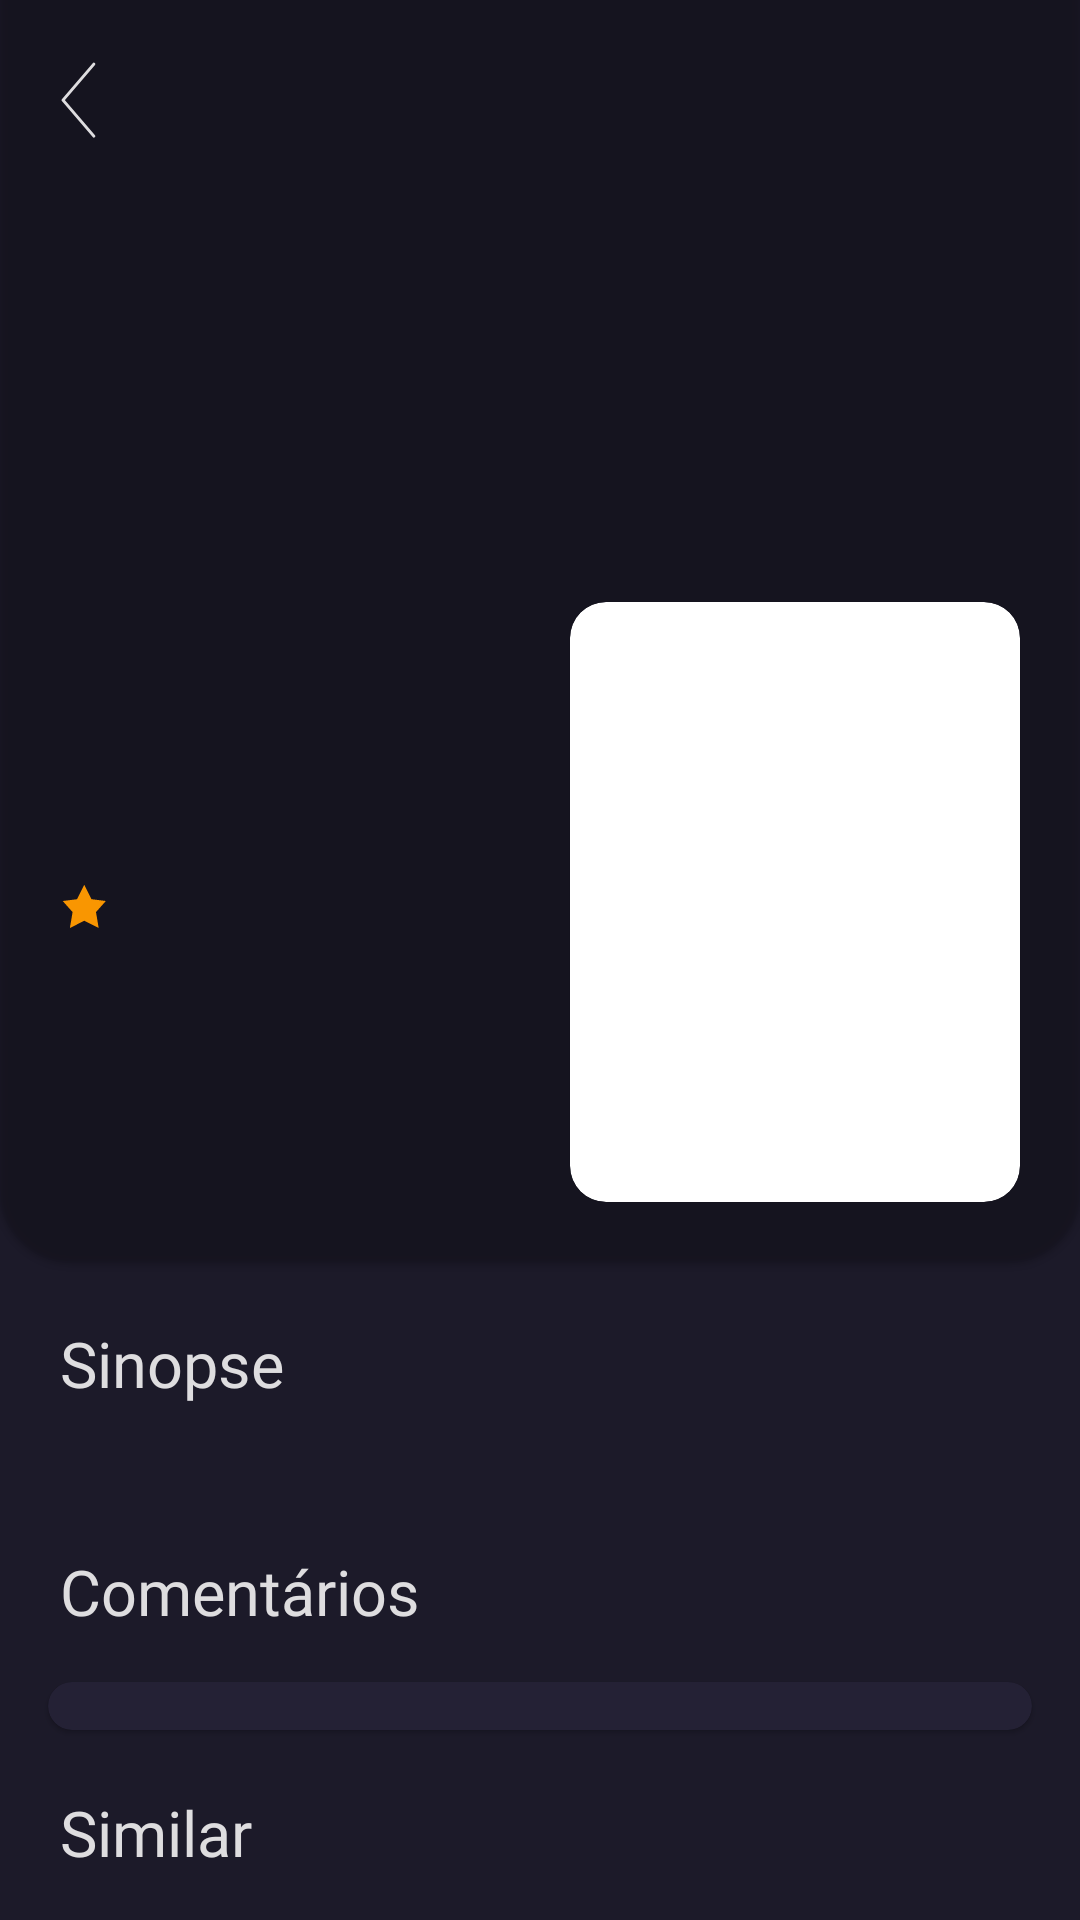

Icons on this 1080×1920 Android screen, each with the point to tap as point (x, y):
star: point (84, 906)
